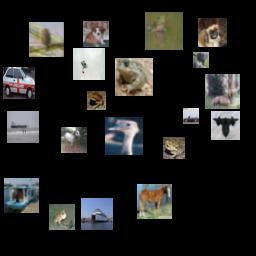airplane: (73, 48, 105, 80), (211, 111, 240, 140)
automobile: (3, 67, 35, 99), (183, 108, 199, 124)
bird: (105, 117, 143, 155), (29, 22, 64, 57)
cat: (193, 52, 209, 68)
deer: (205, 74, 240, 109)
dog: (198, 18, 227, 47), (83, 21, 109, 47)
frog: (115, 58, 153, 96), (145, 12, 183, 50), (49, 204, 75, 230), (163, 137, 185, 159), (87, 91, 106, 110)
ship: (4, 178, 39, 213), (81, 198, 113, 230), (7, 111, 39, 143)
